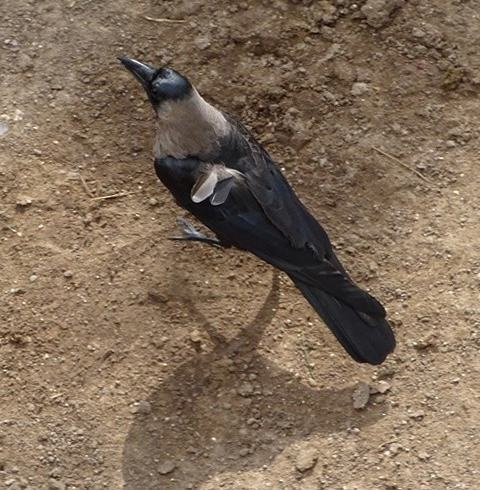crow: (107, 38, 418, 379)
